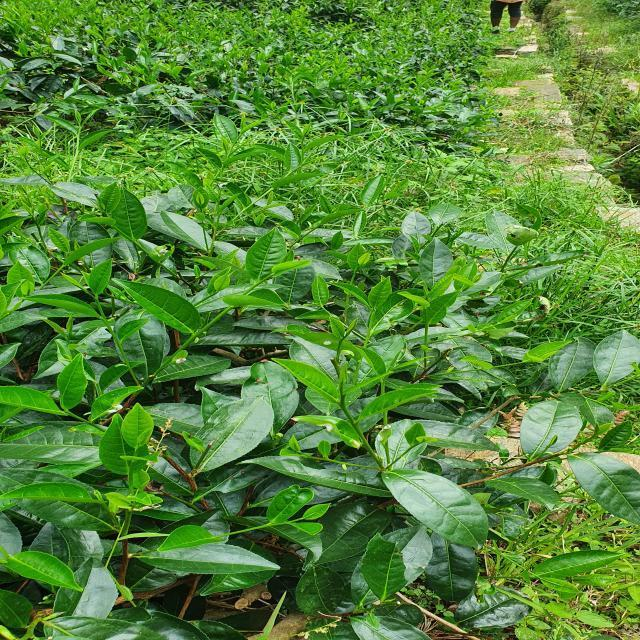Stem: (339, 402, 344, 407), (69, 412, 73, 417), (265, 524, 270, 527), (95, 298, 98, 301), (340, 340, 342, 343)
